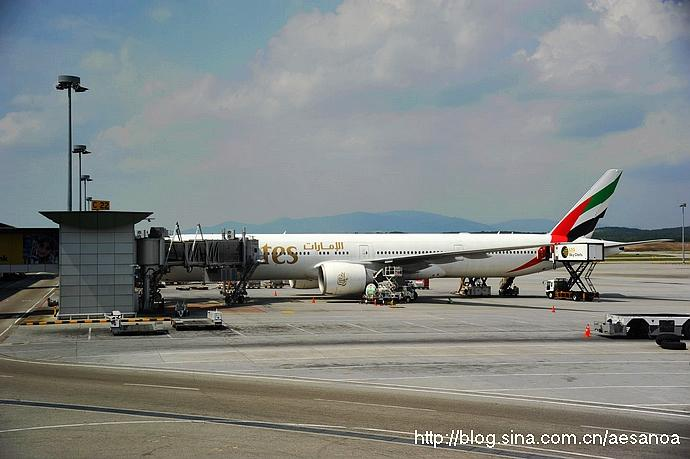airplane: (241, 165, 664, 305)
